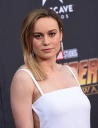female: (25, 13, 68, 70)
